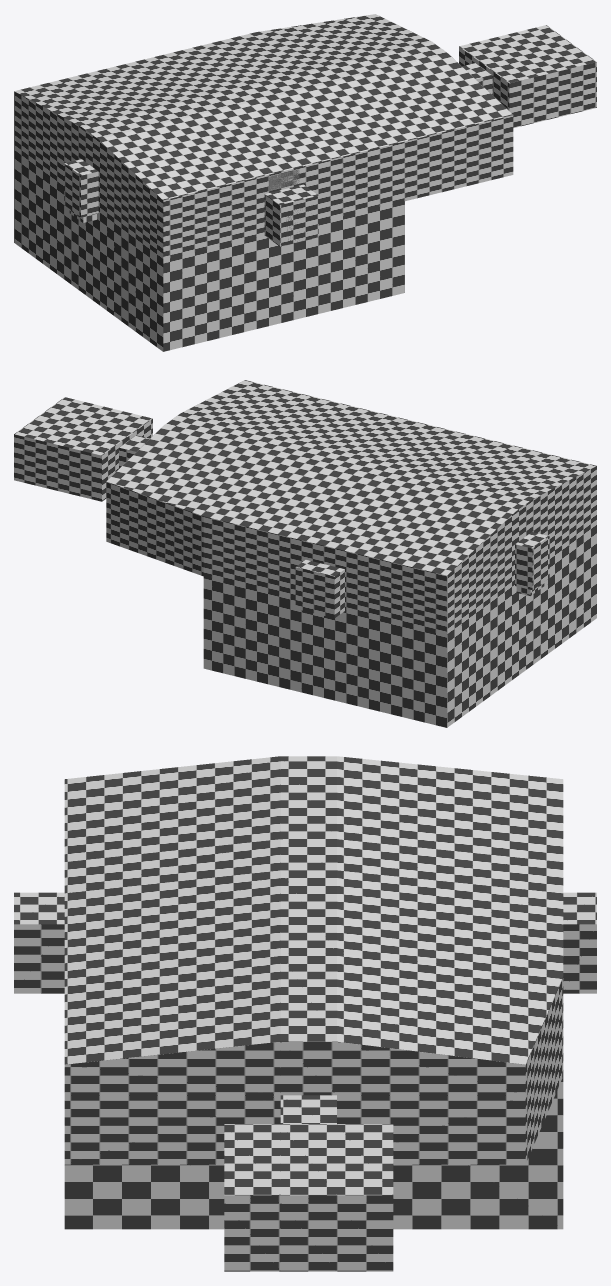
File: Level1.glb
3 renders of one model, top to bottom at view 1: azimuth 30°, elevation 25°; view 2: azimuth 150°, elevation 25°; view 3: azimuth 270°, elevation 25°, orthographic. The views are drawn at different scales.
Parts seen in each view (by area): view 1: Cube.003; view 2: Cube.003; view 3: Cube.003.
Boxes of the visible parts, x1=… form: Cube.003: x1=14, y1=14, x2=596, y2=351; Cube.003: x1=14, y1=380, x2=596, y2=727; Cube.003: x1=14, y1=756, x2=596, y2=1271.
Size of the model in its own units: 114 by 36.06 by 69.03.
5 materials, 1 textured.
